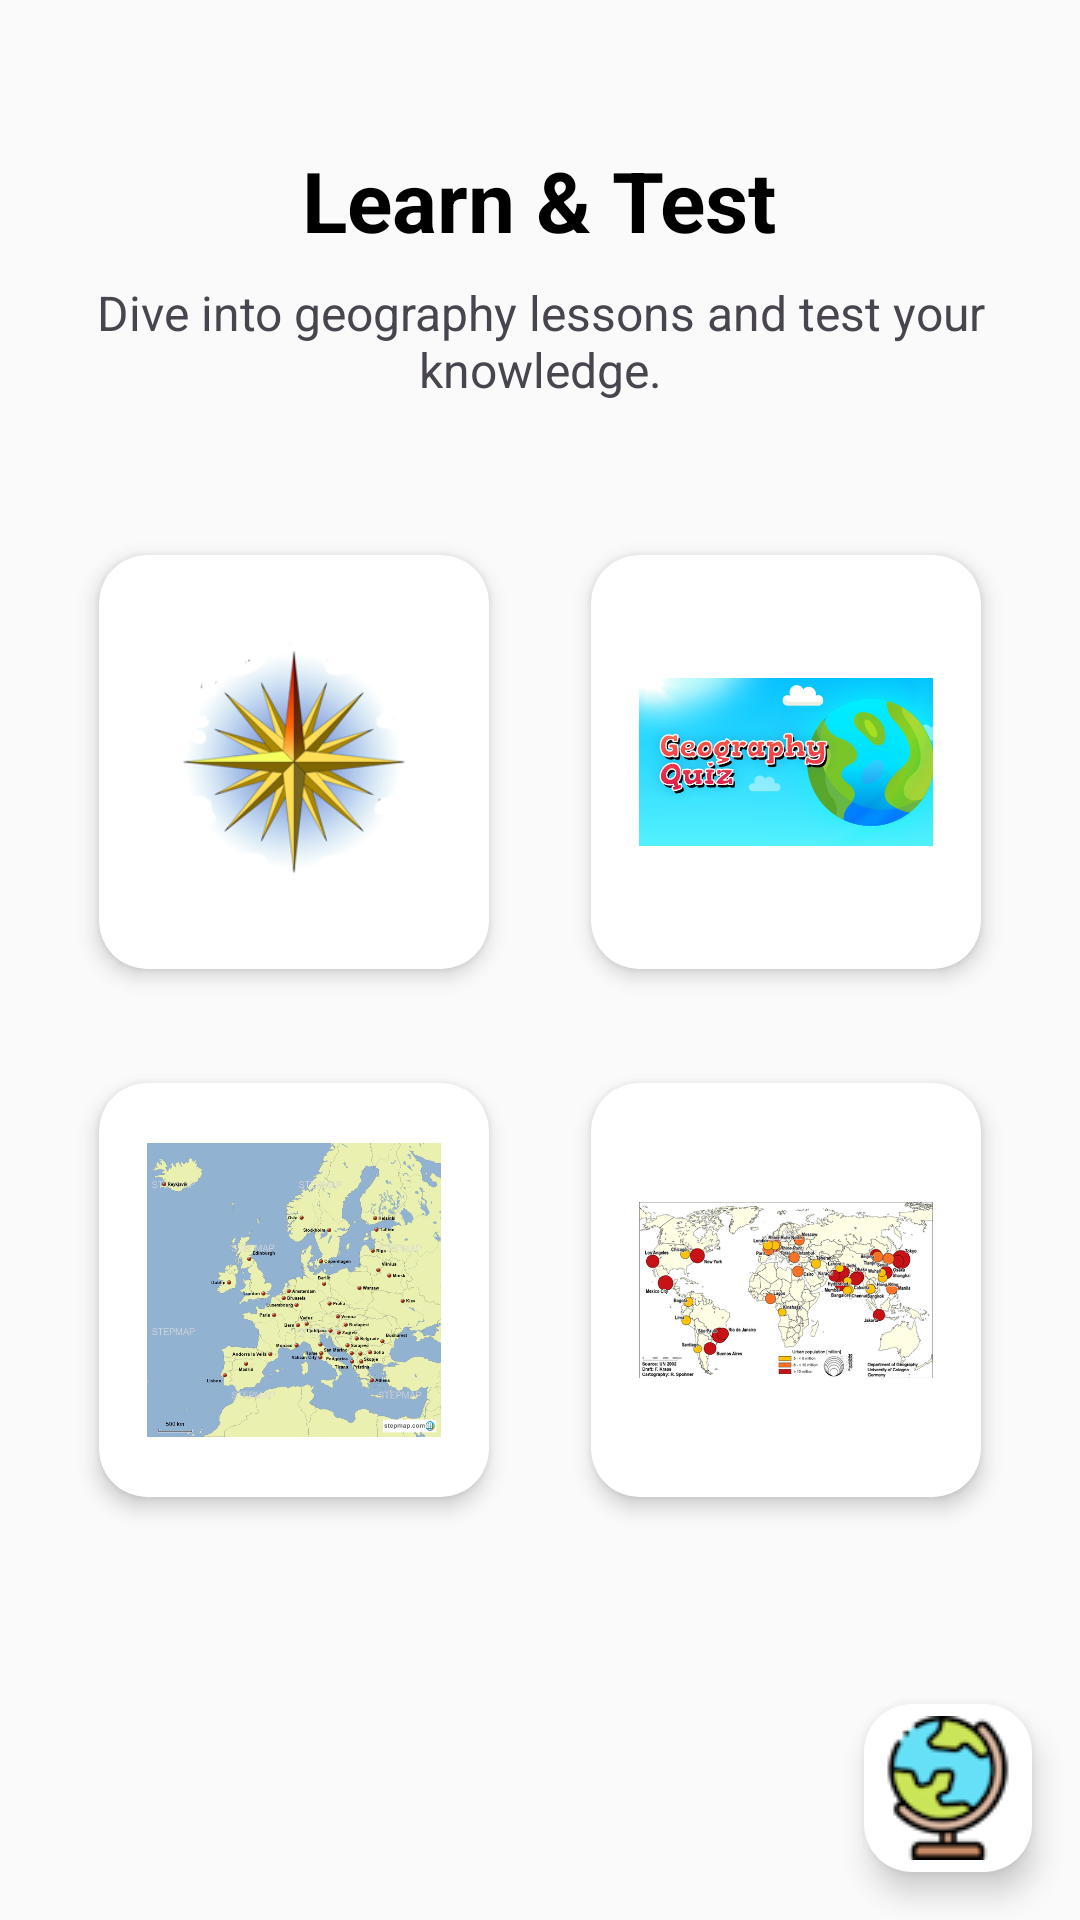

Icons on this 1080w x 1920h Android screen, each with the point to tap as [x,y]:
globus: [948,1788]
